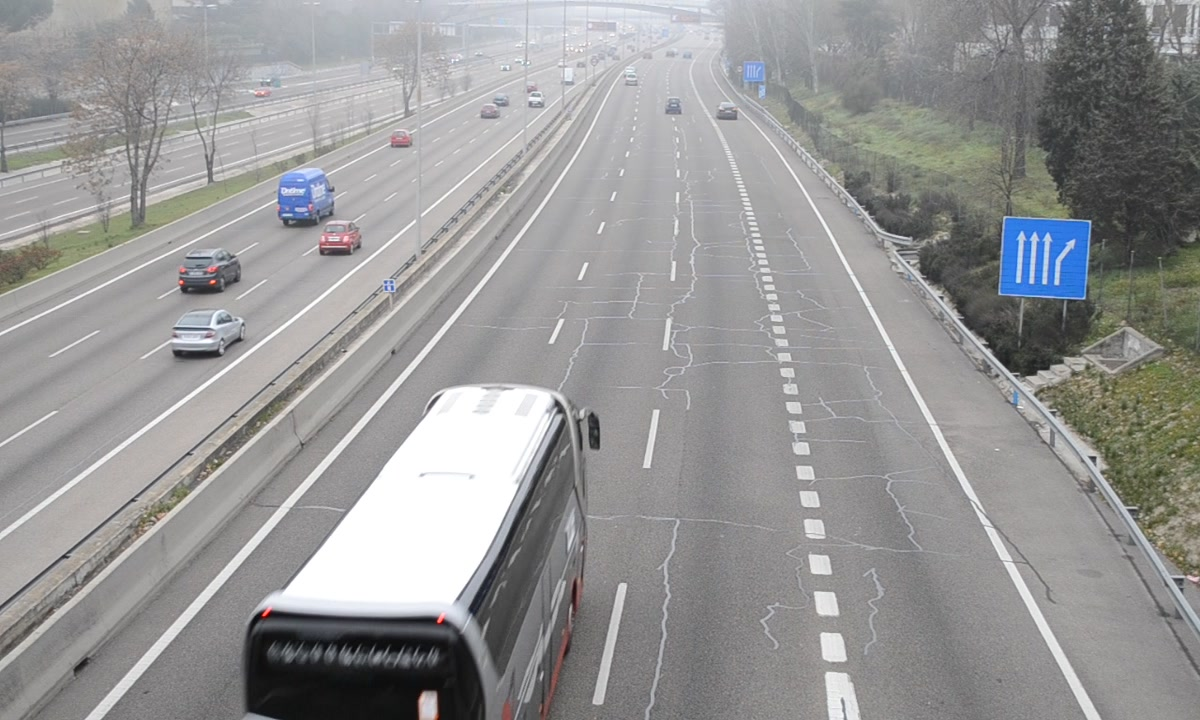bus: (244, 385, 587, 720)
car: (716, 102, 739, 122), (664, 96, 684, 117)
